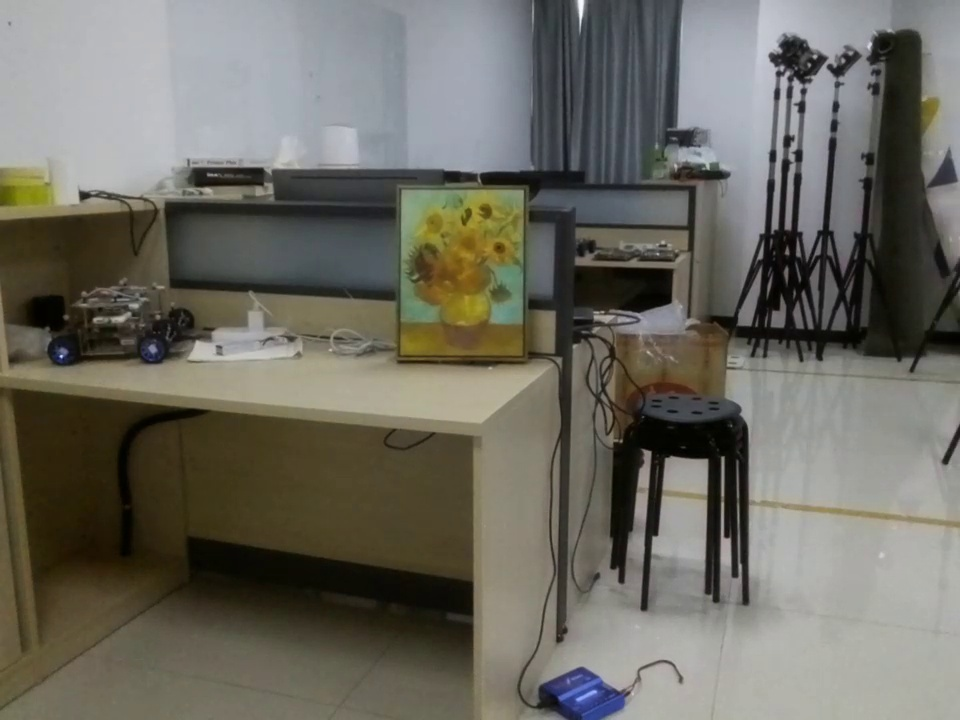painting: (395, 187, 536, 363)
